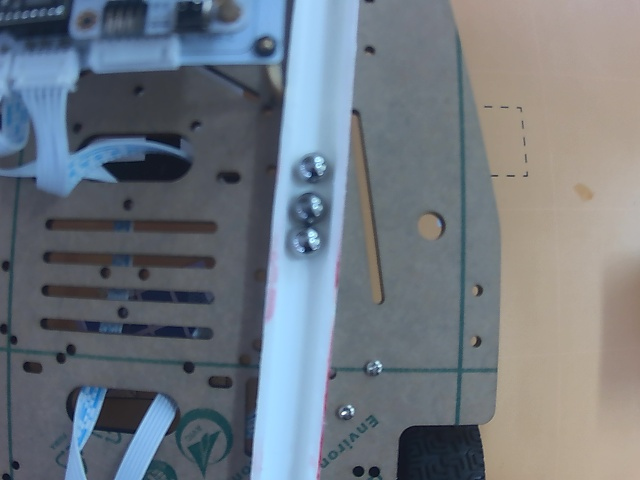steelball: (292, 193, 325, 223), (289, 228, 322, 256), (297, 153, 325, 180)
